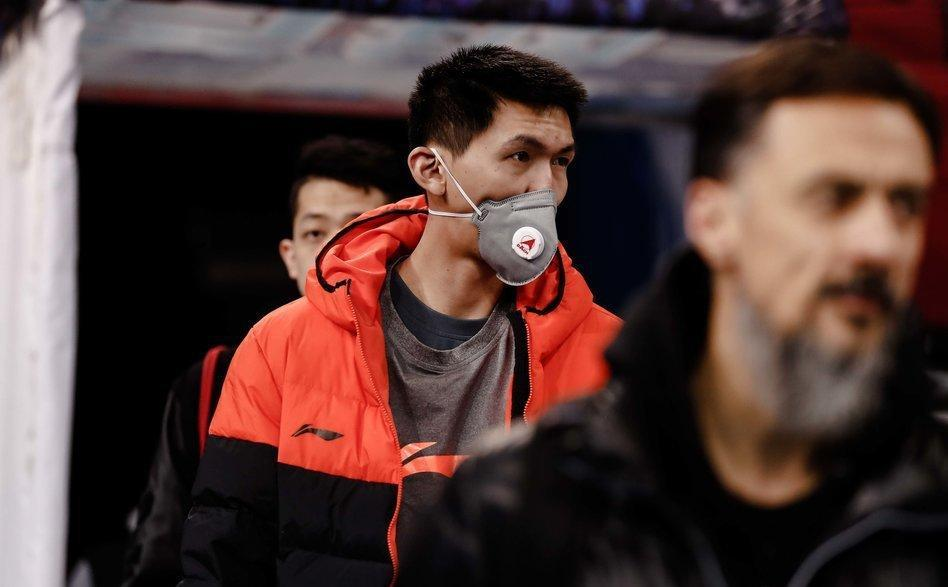NONE: (724, 145, 924, 354), (292, 198, 397, 307)
WRONG: (415, 129, 570, 284)
